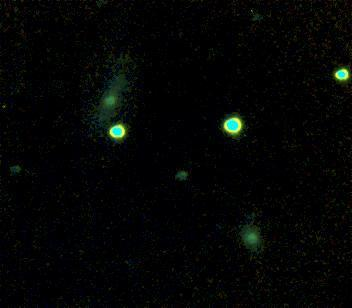star: (84, 102, 114, 132)
